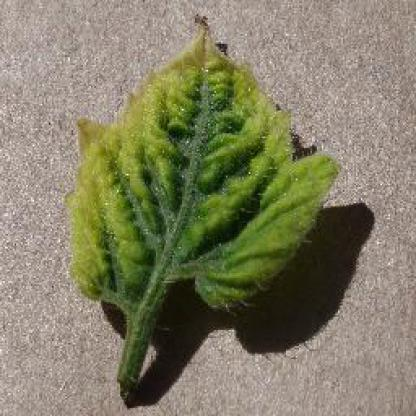bad leaf: (36, 11, 335, 401)
